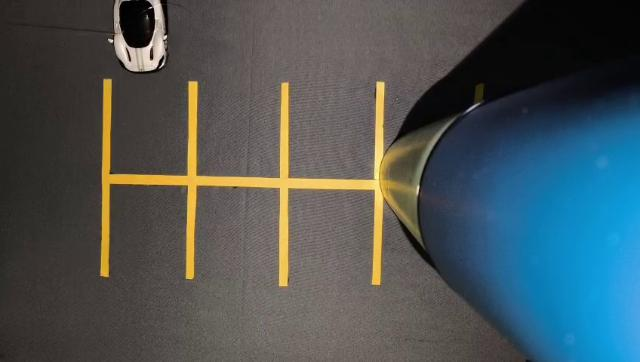toy_car: (99, 0, 189, 94)
